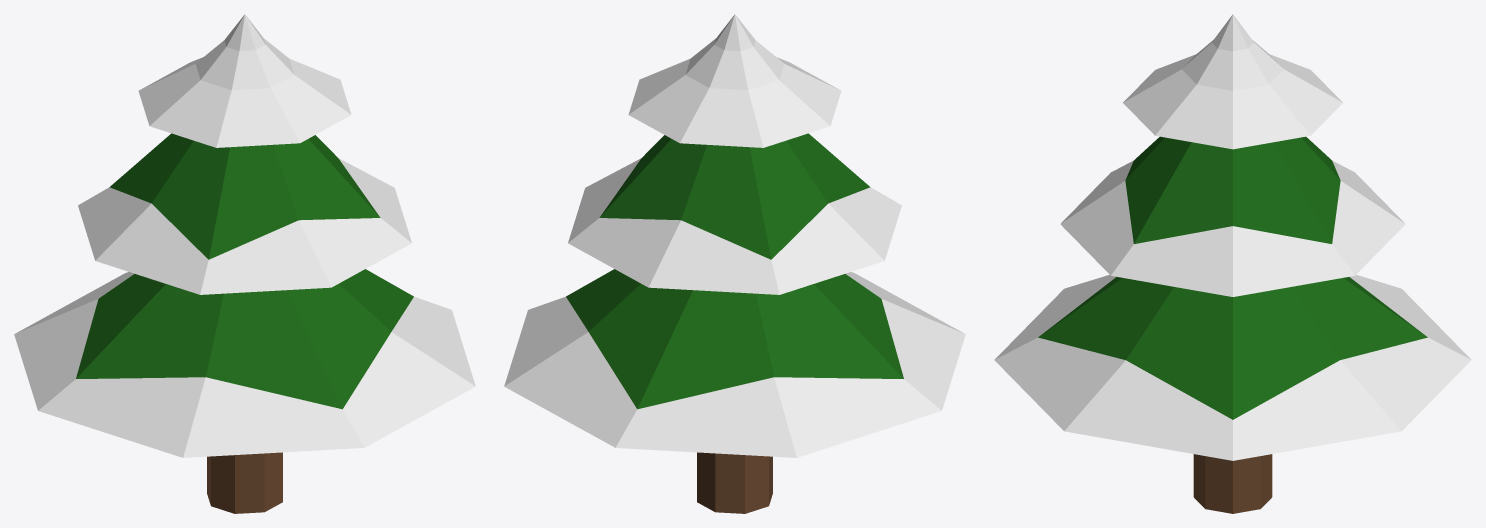
File: SapinSimple.fbx
The picture shows the model from 3 angles, left to right: view 1: azimuth 30°, elevation 25°; view 2: azimuth 150°, elevation 25°; view 3: azimuth 270°, elevation 25°; orthographic projection.
Parts seen in each view (by area): view 1: Cylinder; view 2: Cylinder; view 3: Cylinder.
Part boxes in pixels (x1=…): Cylinder: x1=14, y1=14, x2=475, y2=513; Cylinder: x1=504, y1=14, x2=965, y2=513; Cylinder: x1=994, y1=14, x2=1471, y2=513.
Size of the model in its own units: 395 by 441 by 395.
